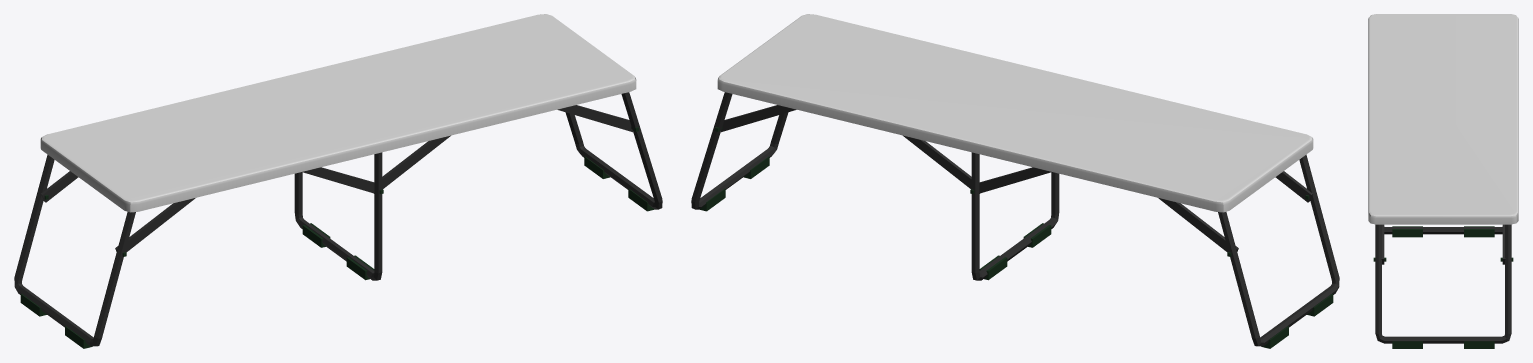
File: foldingBench.fbx
3 views of the same model, side by side, from view 1: azimuth 30°, elevation 25°; view 2: azimuth 150°, elevation 25°; view 3: azimuth 270°, elevation 25° (orthographic). The views are drawn at different scales.
Visible parts, largest first — view 1: pCube82, pCube85; view 2: pCube82, pCube85; view 3: pCube82, pCube85.
Part boxes in pixels (<box>): pCube82: <box>40,14,636,212</box>; pCube85: <box>14,92,662,348</box>; pCube82: <box>717,14,1313,212</box>; pCube85: <box>691,92,1339,348</box>; pCube82: <box>1368,14,1518,224</box>; pCube85: <box>1373,224,1513,348</box>.
Bounding box in the file's own units: 5.62 × 1.4 × 1.58.
